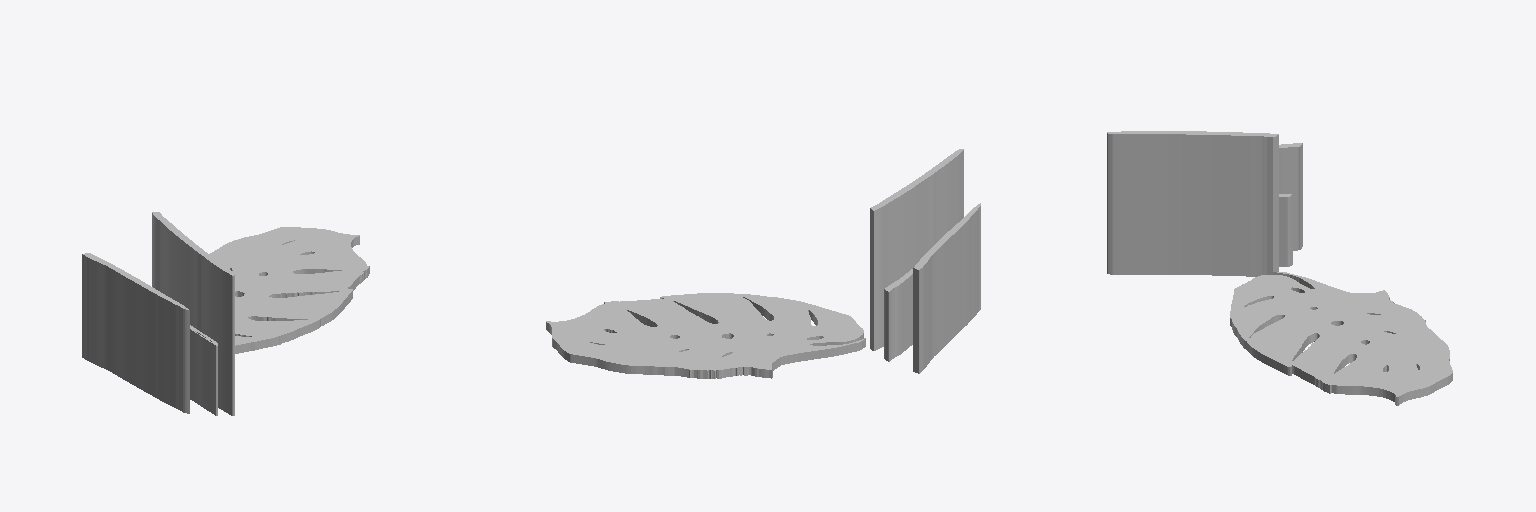
File: plantpart1.obj
The picture shows the model from 3 angles: view 1: azimuth 30°, elevation 25°; view 2: azimuth 150°, elevation 25°; view 3: azimuth 270°, elevation 25°; orthographic projection.
Parts seen in each view (by area): view 1: Mesh2 Model, Mesh4 Model, Mesh3 Model, Mesh1 Model; view 2: Mesh2 Model, Mesh3 Model, Mesh4 Model, Mesh1 Model; view 3: Mesh3 Model, Mesh2 Model, Mesh4 Model, Mesh1 Model.
Part boxes in pixels (bbox=[...]): Mesh2 Model: bbox=[209, 227, 369, 353]; Mesh4 Model: bbox=[82, 253, 189, 413]; Mesh3 Model: bbox=[152, 212, 234, 415]; Mesh1 Model: bbox=[190, 325, 217, 415]; Mesh2 Model: bbox=[546, 293, 865, 378]; Mesh3 Model: bbox=[870, 149, 963, 350]; Mesh4 Model: bbox=[913, 203, 980, 373]; Mesh1 Model: bbox=[884, 269, 912, 361]; Mesh3 Model: bbox=[1107, 131, 1278, 276]; Mesh2 Model: bbox=[1230, 272, 1452, 405]; Mesh4 Model: bbox=[1279, 143, 1302, 250]; Mesh1 Model: bbox=[1279, 194, 1292, 266].
Bounding box in the file's own units: 875 × 361 × 806.